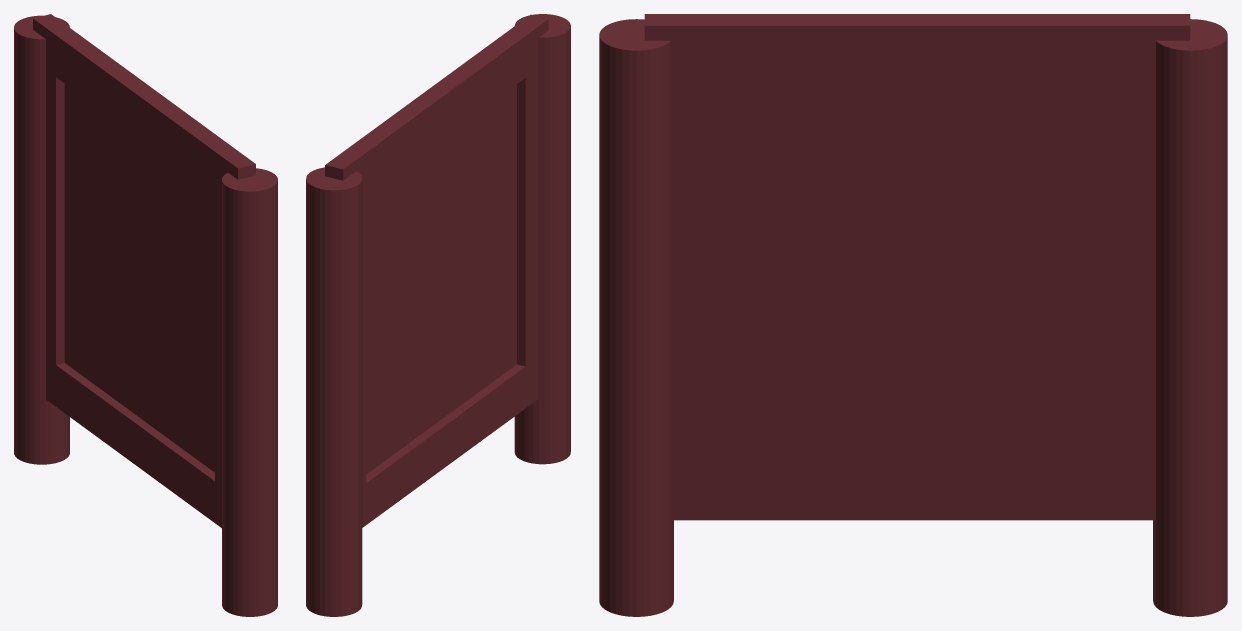
File: Billboard.fbx
The picture shows the model from 3 angles, left to right: view 1: azimuth 30°, elevation 25°; view 2: azimuth 150°, elevation 25°; view 3: azimuth 270°, elevation 25°; orthographic projection. The views are drawn at different scales.
Parts seen in each view (by area): view 1: Cube.010; view 2: Cube.010; view 3: Cube.010.
Part boxes in pixels (<box>): Cube.010: <box>14,14,277,616</box>; Cube.010: <box>306,14,570,616</box>; Cube.010: <box>599,14,1227,616</box>.
Size of the model in its own units: 38.33 by 329 by 323.
